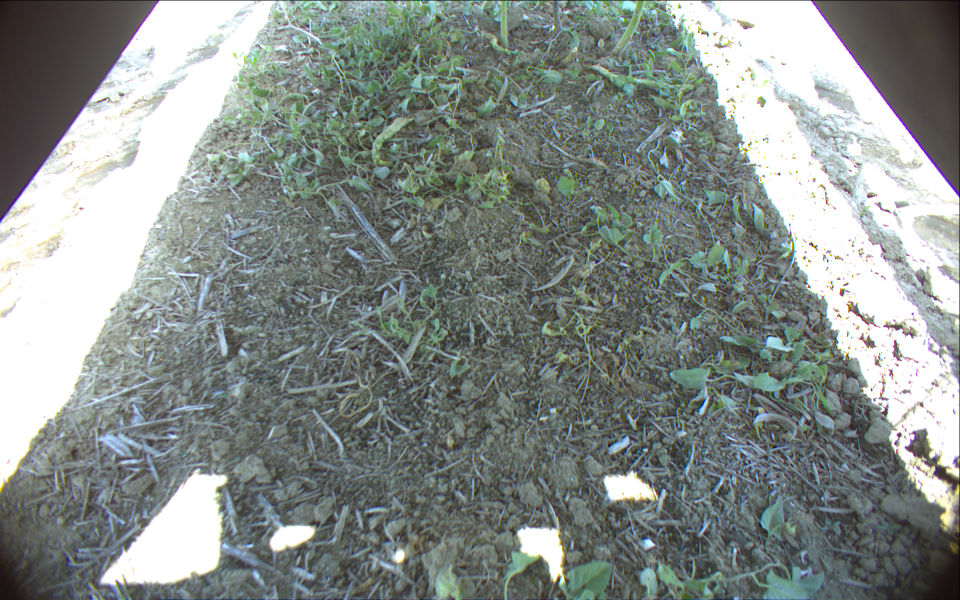aspa: (590, 63, 696, 90), (371, 118, 415, 165), (610, 1, 645, 55), (484, 31, 521, 52), (500, 1, 510, 47)
